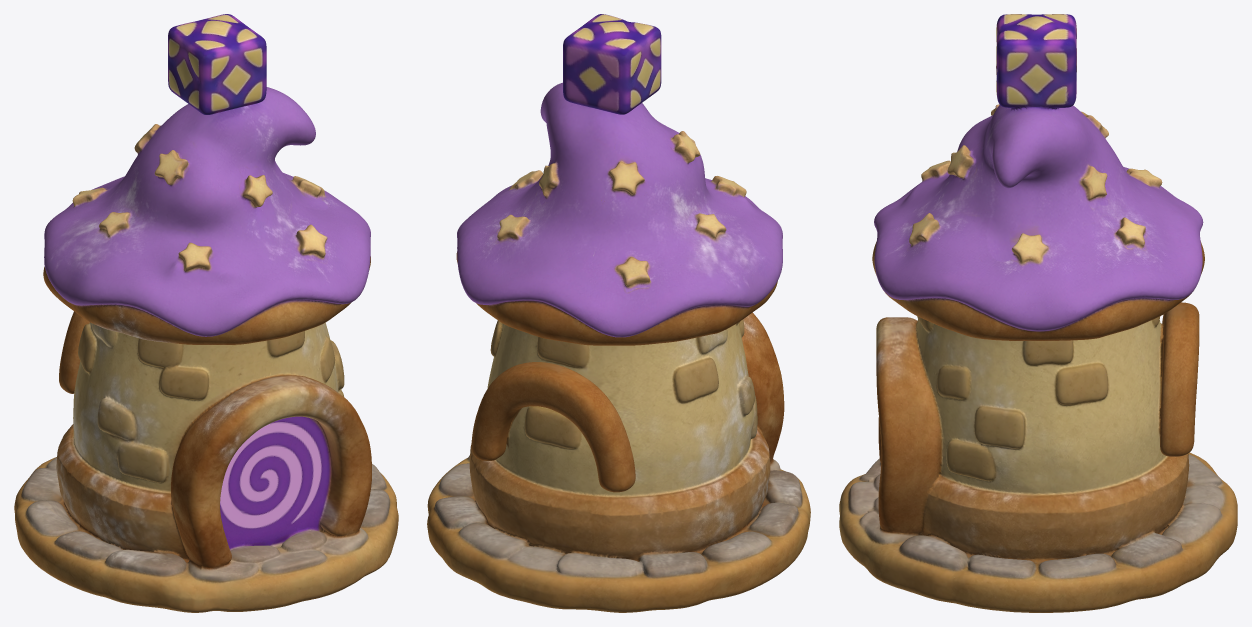
Rendered from portal-observatory.glb.
3 renders of one model, left to right at view 1: azimuth 30°, elevation 25°; view 2: azimuth 150°, elevation 25°; view 3: azimuth 270°, elevation 25°, orthographic. The views are drawn at different scales.
Bounding box in the file's own units: 1.3 × 1.9 × 1.32.
Materials: 1 (1 with a texture image).
